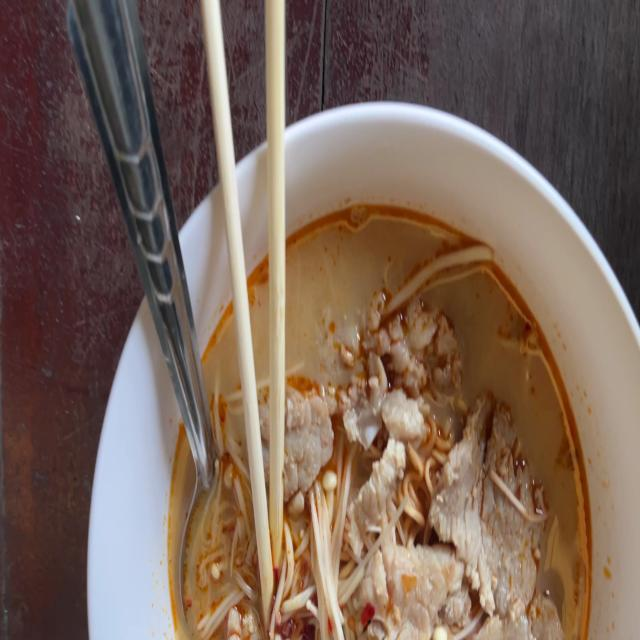noodle: (172, 209, 602, 640)
